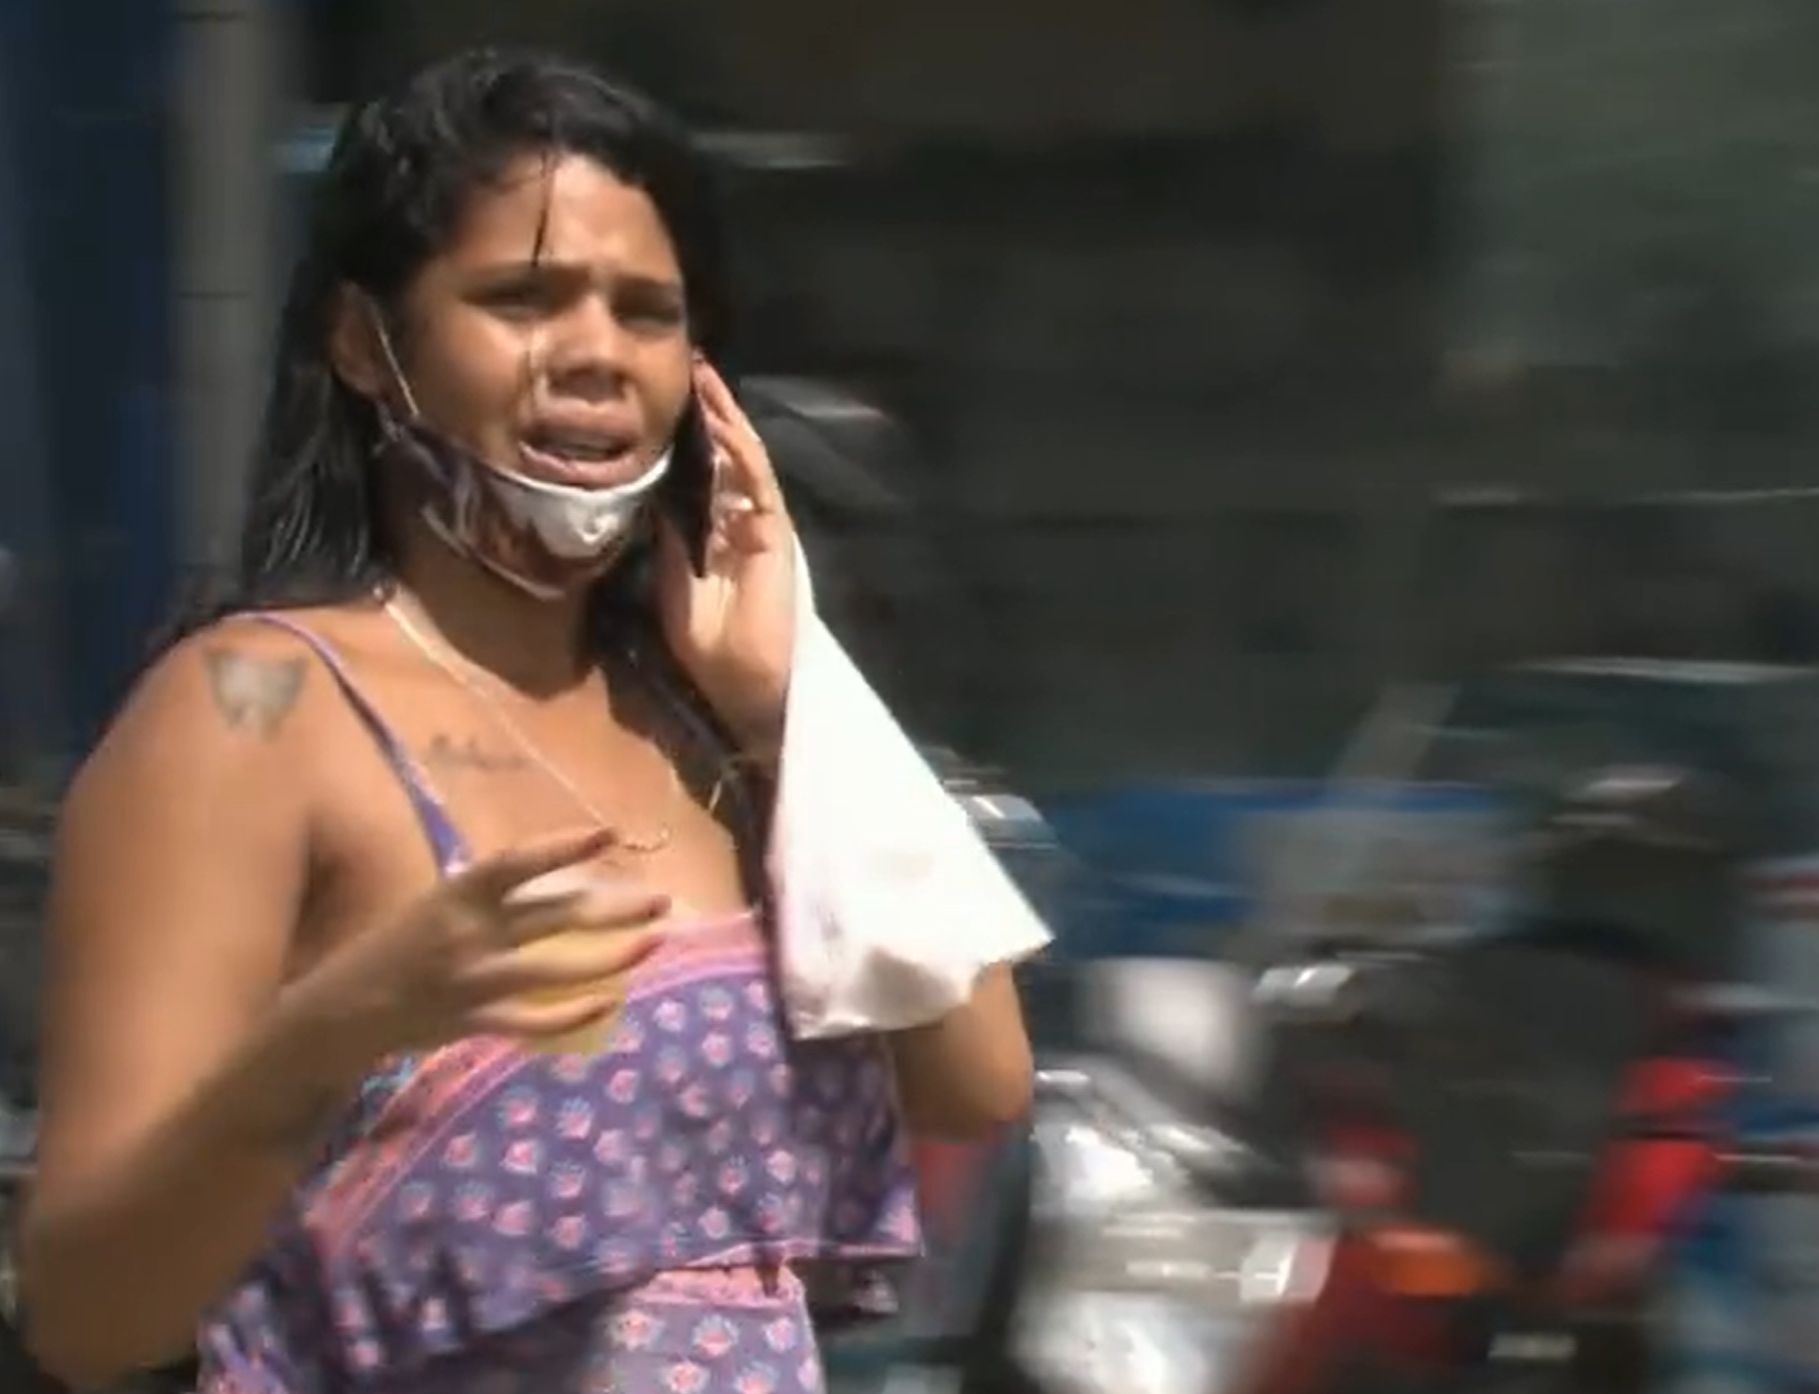mask_weared_incorrect: (263, 143, 752, 619)
